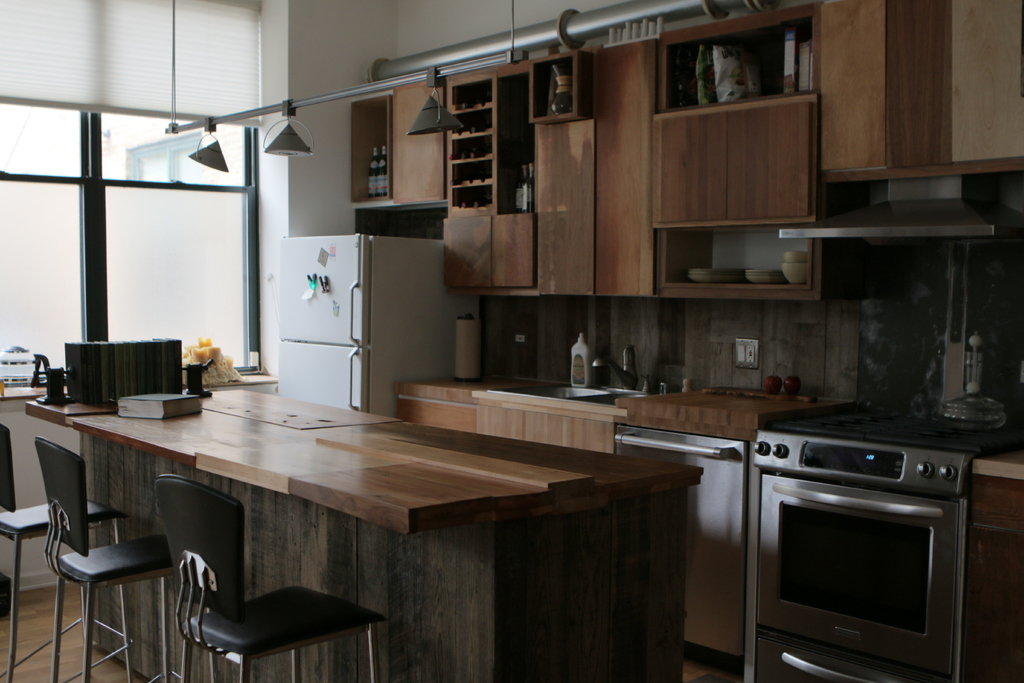Cabinetry: (351, 2, 826, 309), (812, 0, 1023, 177)
